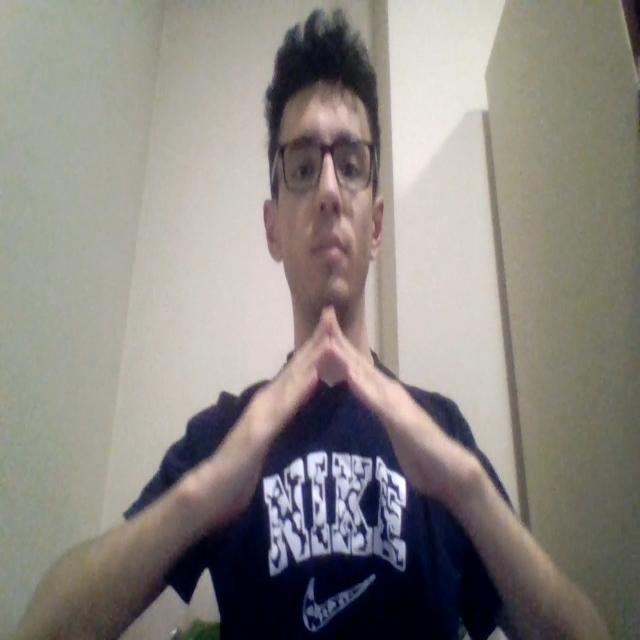house: (203, 307, 459, 504)
